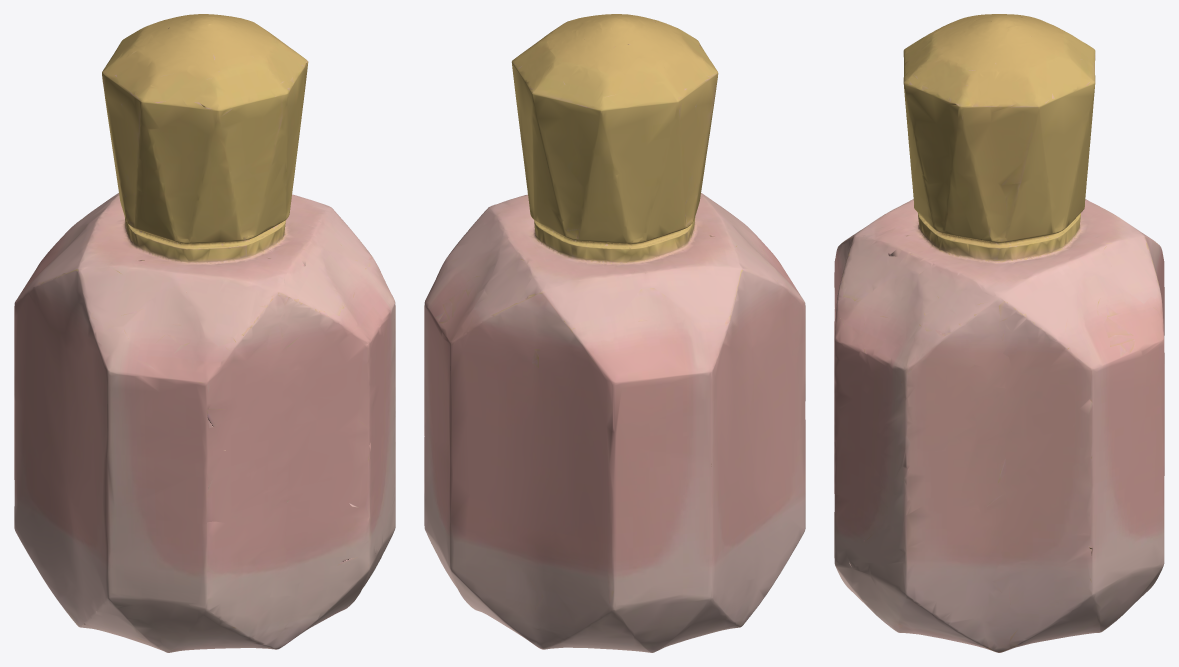
File: perfume.glb
3 renders of one model, left to right at view 1: azimuth 30°, elevation 25°; view 2: azimuth 150°, elevation 25°; view 3: azimuth 270°, elevation 25°, orthographic.
Visible parts, largest first — view 1: Mesh_0; view 2: Mesh_0; view 3: Mesh_0.
Part boxes in pixels (x1,y1,x2,y2): Mesh_0: (14,14,395,652); Mesh_0: (424,14,805,652); Mesh_0: (834,14,1164,652).
Size of the model in its own units: 0.9986 by 1.91 by 0.9986.
1 material, 1 textured.
